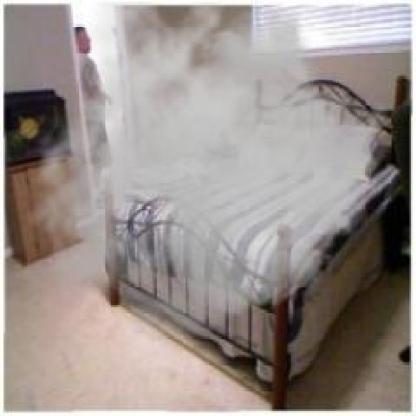Smoke: (24, 2, 390, 343)
